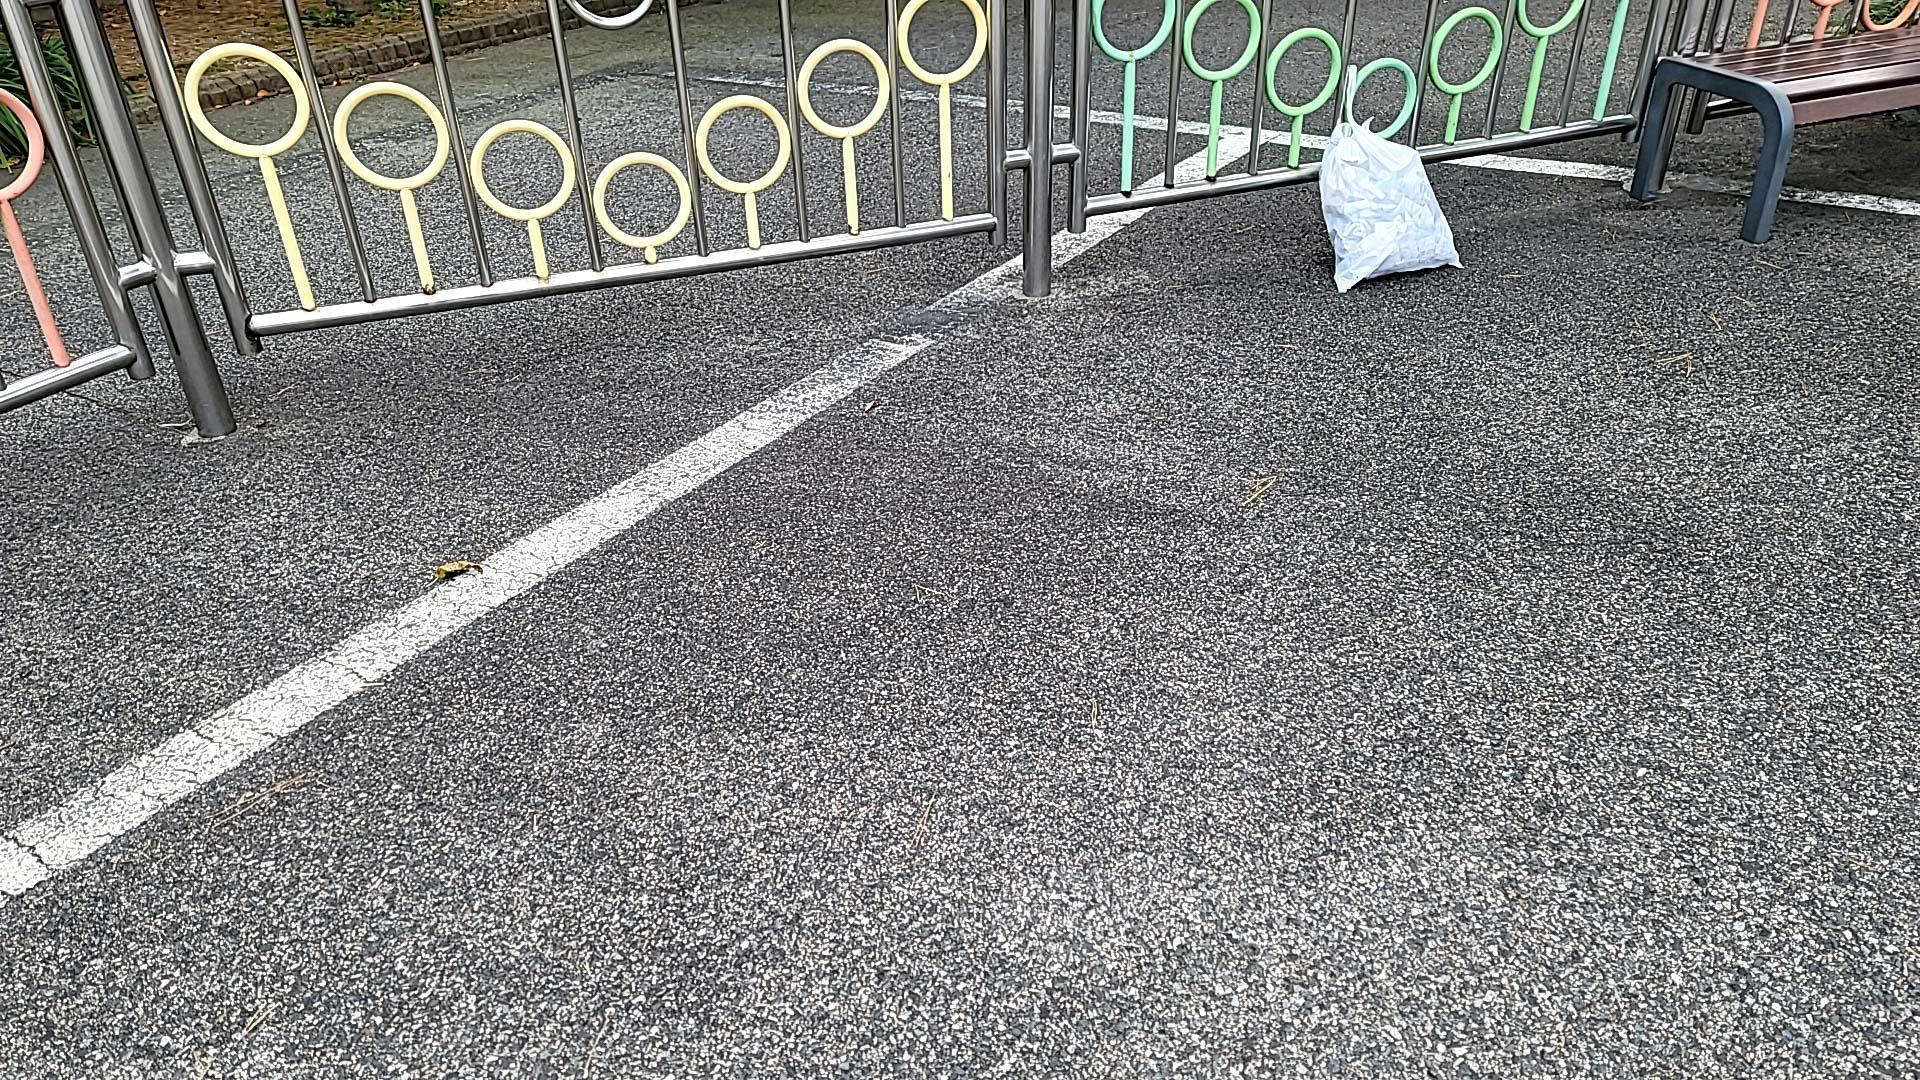white_bag: (1308, 105, 1477, 302)
